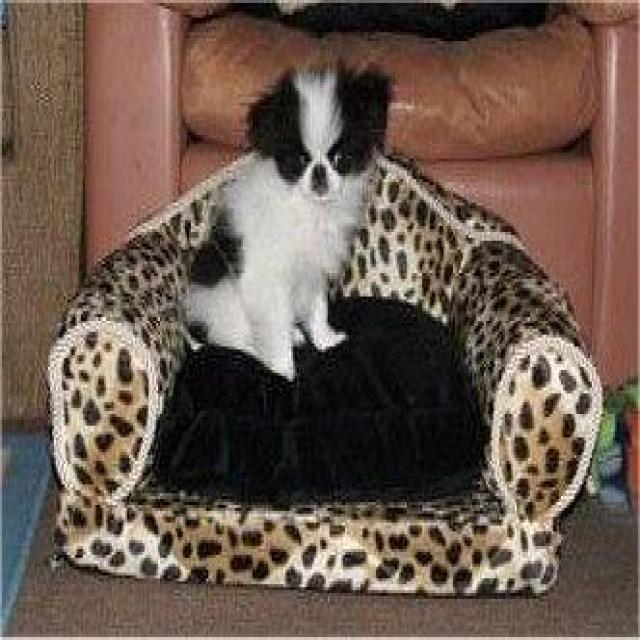husky: (174, 47, 395, 385)
